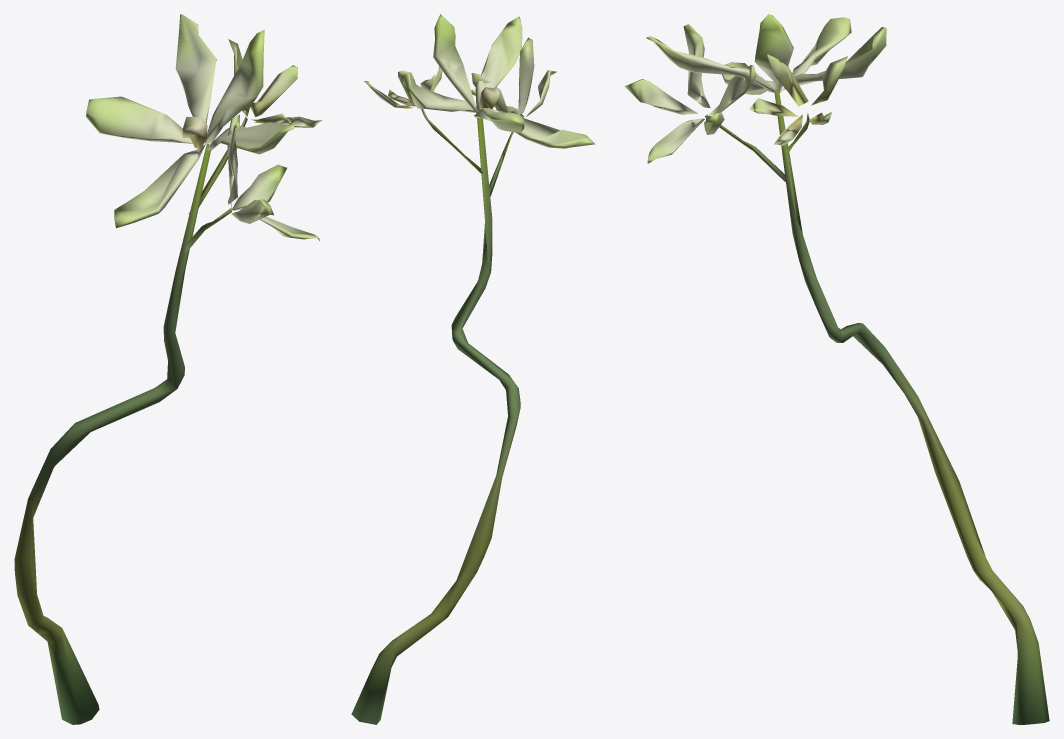
3 views of the same model, side by side, from view 1: azimuth 30°, elevation 25°; view 2: azimuth 150°, elevation 25°; view 3: azimuth 270°, elevation 25° (orthographic). The views are drawn at different scales.
Visible parts, largest first — view 1: LOD 3_7598556c-190f-51c2-9c27-77094a5ef6d8; view 2: LOD 3_7598556c-190f-51c2-9c27-77094a5ef6d8; view 3: LOD 3_7598556c-190f-51c2-9c27-77094a5ef6d8.
Boxes of the visible parts, bbox=[...] form: LOD 3_7598556c-190f-51c2-9c27-77094a5ef6d8: bbox=[14, 14, 321, 724]; LOD 3_7598556c-190f-51c2-9c27-77094a5ef6d8: bbox=[351, 14, 595, 724]; LOD 3_7598556c-190f-51c2-9c27-77094a5ef6d8: bbox=[624, 14, 1049, 724].
Bounding box in the file's own units: 4.94 × 15.47 × 8.12.
